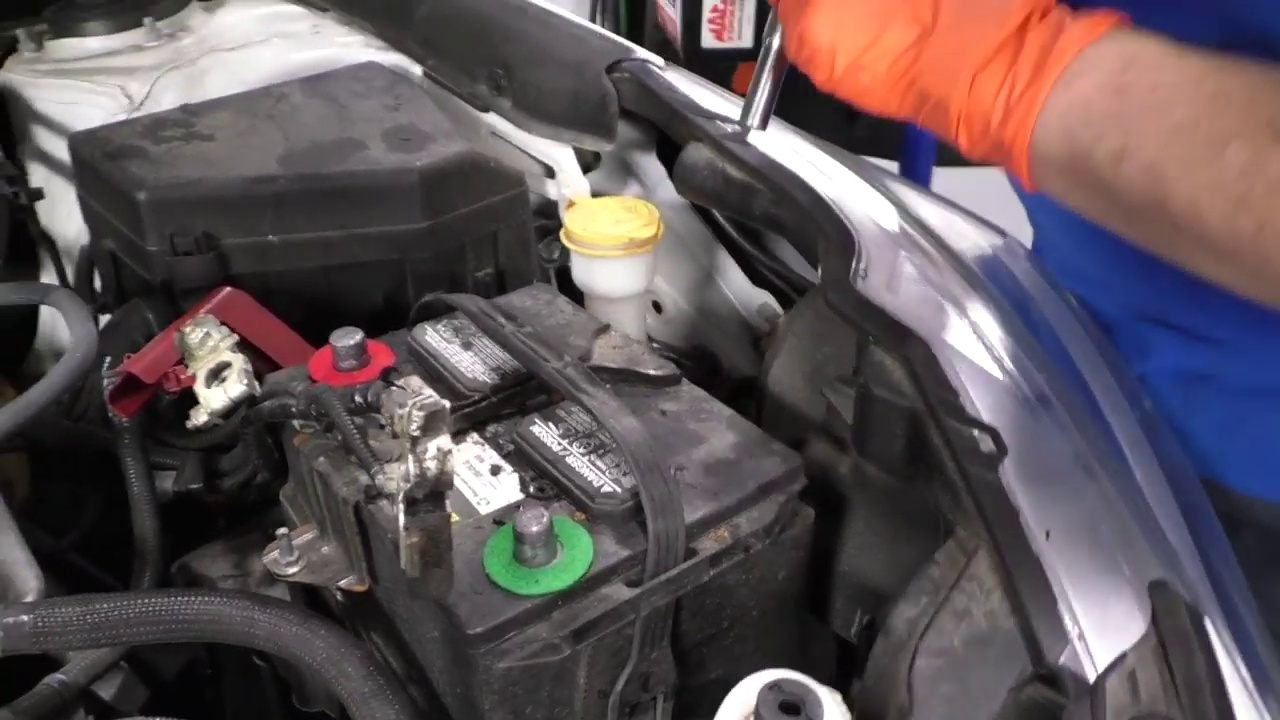battery: (286, 283, 806, 624)
neg_disconnected: (482, 474, 586, 593)
pos_disconnected: (146, 294, 399, 437)
